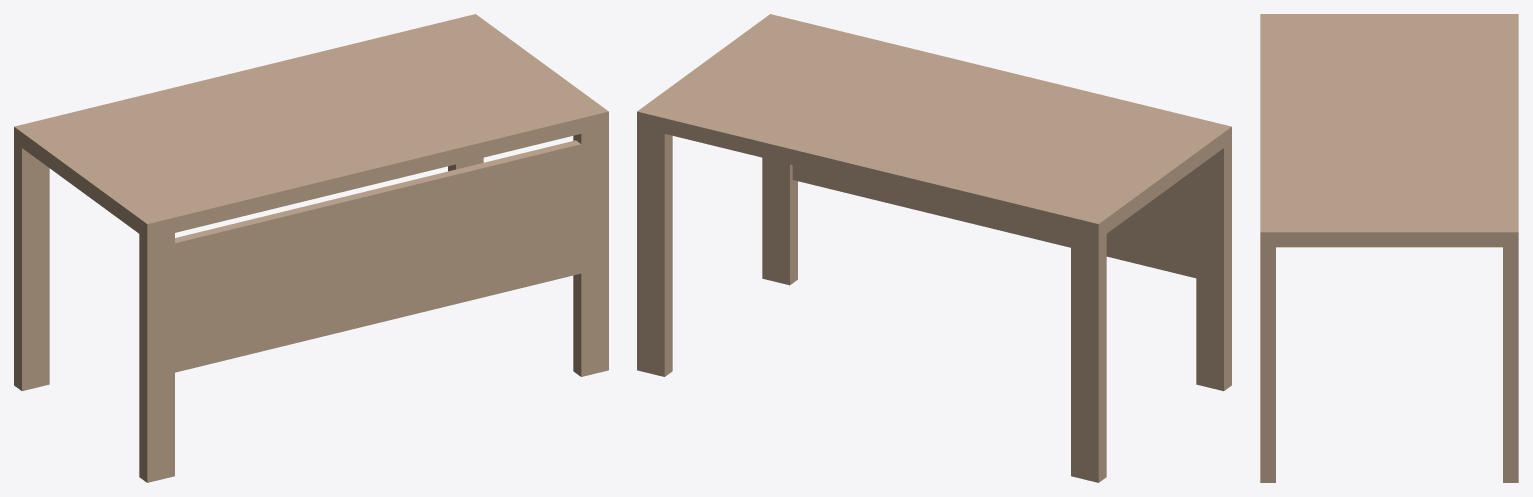
File: desk-1.glb
3 views of the same model, side by side, from view 1: azimuth 30°, elevation 25°; view 2: azimuth 150°, elevation 25°; view 3: azimuth 270°, elevation 25° (orthographic). The views are drawn at different scales.
Visible parts, largest first — view 1: desk_desk; view 2: desk_desk; view 3: desk_desk.
Boxes of the visible parts, x1,y1,x2,y2 form: desk_desk: (14, 14, 608, 482); desk_desk: (637, 14, 1231, 482); desk_desk: (1260, 14, 1518, 482).
Bounding box in the file's own units: 1.4 × 0.75 × 0.7.
